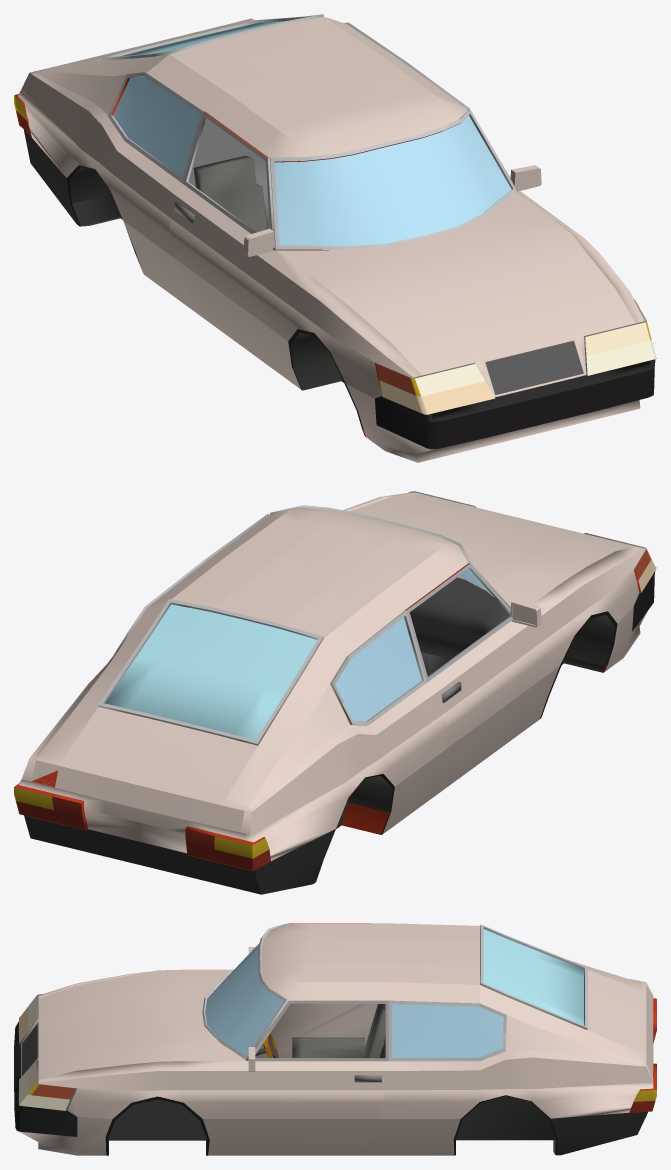
Rendered from Turbo_Civil.fbx.
The picture shows the model from 3 angles, top to bottom: view 1: azimuth 30°, elevation 25°; view 2: azimuth 150°, elevation 25°; view 3: azimuth 270°, elevation 25°; orthographic projection. The views are drawn at different scales.
Visible parts, largest first — view 1: Chassi, Hood, Glass, Door_R, Seats, Trunk, Door_L, TrunkGlass; view 2: Chassi, Trunk, TrunkGlass, Door_R, Hood, Glass; view 3: Chassi, Hood, Door_L, Glass, TrunkGlass, Trunk, Door_R, Seats.
Boxes of the visible parts, left/top/right/bottom form: Chassi: left=14, top=16, right=656, bottom=462; Hood: left=276, top=192, right=635, bottom=375; Glass: left=113, top=76, right=511, bottom=246; Door_R: left=169, top=111, right=278, bottom=372; Seats: left=194, top=155, right=267, bottom=232; Trunk: left=63, top=14, right=323, bottom=64; Door_L: left=405, top=62, right=541, bottom=195; TrunkGlass: left=120, top=21, right=286, bottom=56; Chassi: left=14, top=491, right=656, bottom=894; Trunk: left=55, top=599, right=323, bottom=826; TrunkGlass: left=105, top=604, right=316, bottom=740; Door_R: left=405, top=563, right=541, bottom=791; Hood: left=349, top=494, right=634, bottom=607; Glass: left=335, top=560, right=493, bottom=721; Chassi: left=14, top=923, right=656, bottom=1155; Hood: left=38, top=969, right=246, bottom=1079; Door_L: left=242, top=1000, right=388, bottom=1155; Glass: left=205, top=944, right=503, bottom=1057; TrunkGlass: left=483, top=929, right=583, bottom=1025; Trunk: left=480, top=924, right=652, bottom=1068; Door_R: left=248, top=923, right=377, bottom=1057; Seats: left=292, top=1004, right=385, bottom=1057.
Bounding box in the file's own units: 2.14 × 1.42 × 5.18.
